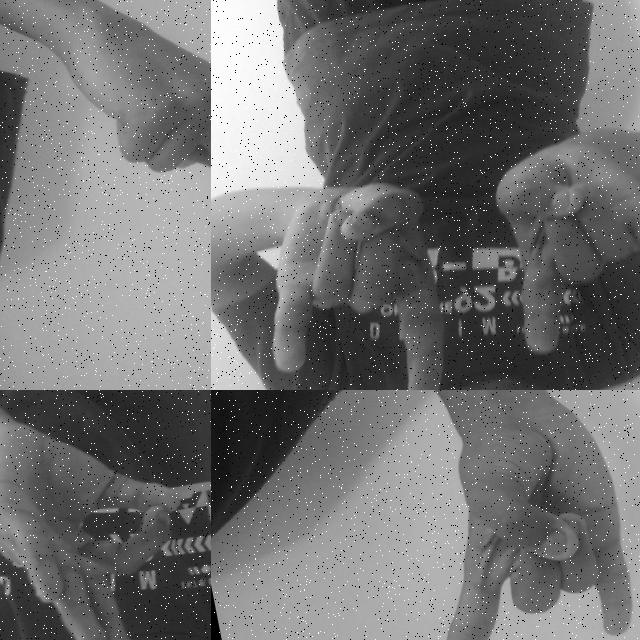Corna: (371, 390, 640, 640), (235, 149, 462, 390), (473, 103, 640, 364)
Middle Finger: (18, 0, 211, 308)
Okay: (0, 390, 211, 640)
